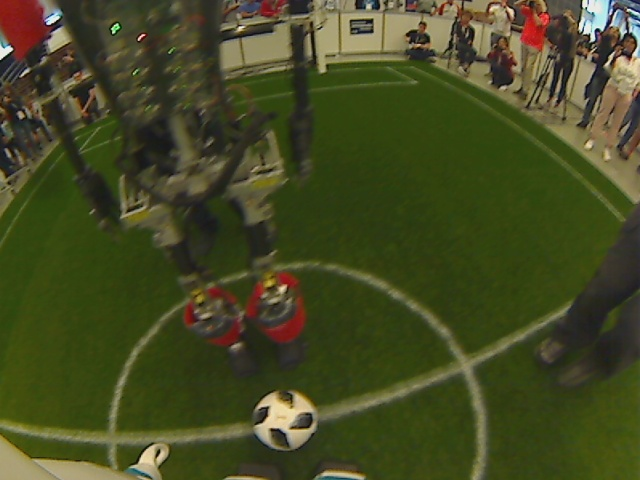ball: (248, 385, 322, 455)
